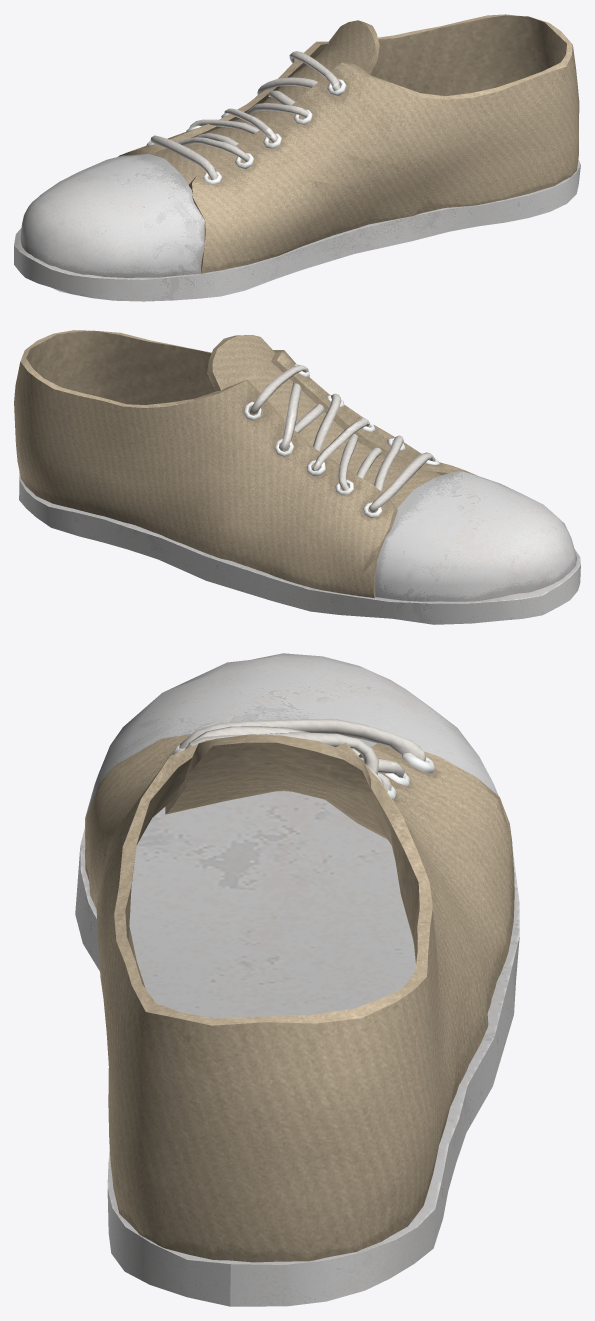
The model's file is SM_Shoes_C2.fbx.
3 renders of one model, top to bottom at view 1: azimuth 30°, elevation 25°; view 2: azimuth 150°, elevation 25°; view 3: azimuth 270°, elevation 25°, orthographic. The views are drawn at different scales.
Visible parts, largest first — view 1: SM_Shoes_C2; view 2: SM_Shoes_C2; view 3: SM_Shoes_C2.
Part boxes in pixels (box(x1,y1,x2,y2)): SM_Shoes_C2: box(14, 14, 580, 301); SM_Shoes_C2: box(14, 330, 580, 624); SM_Shoes_C2: box(75, 653, 519, 1306).
Size of the model in its own units: 30.02 by 10.7 by 10.22.
Materials: 1 (1 with a texture image).
